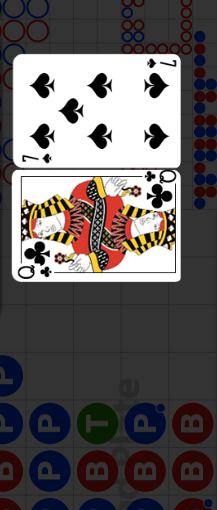7S: (144, 57, 178, 70)
QC: (134, 171, 181, 215), (14, 238, 60, 282)
